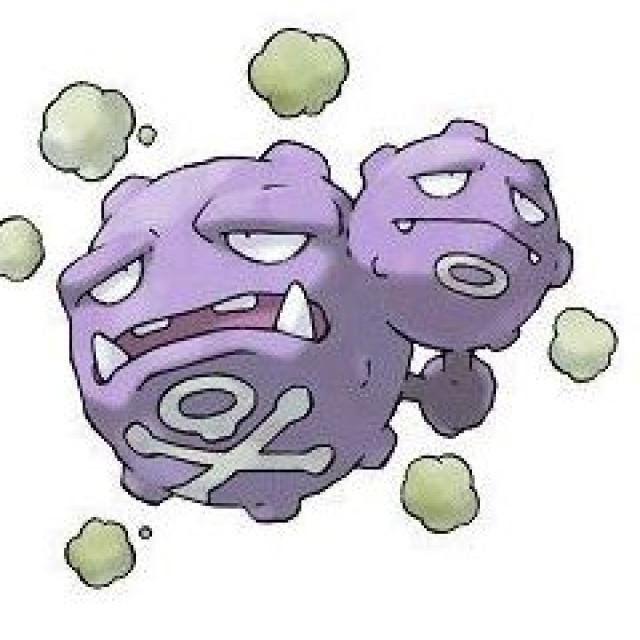Weezing: (65, 121, 573, 514)
